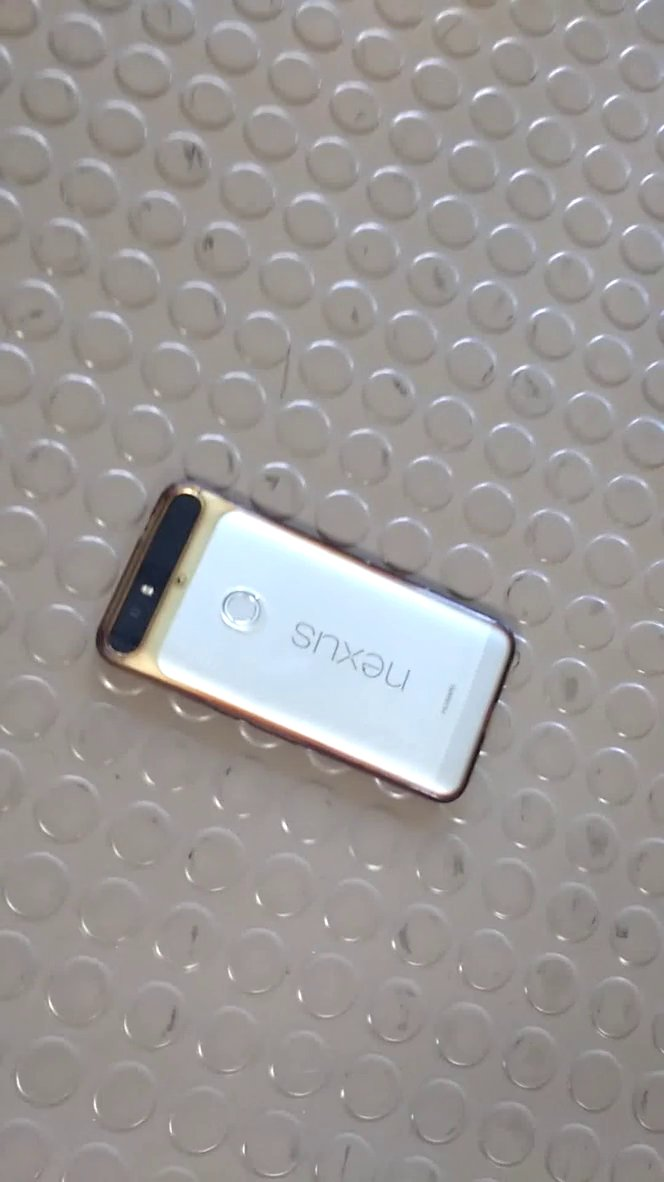phone: (88, 464, 553, 824)
